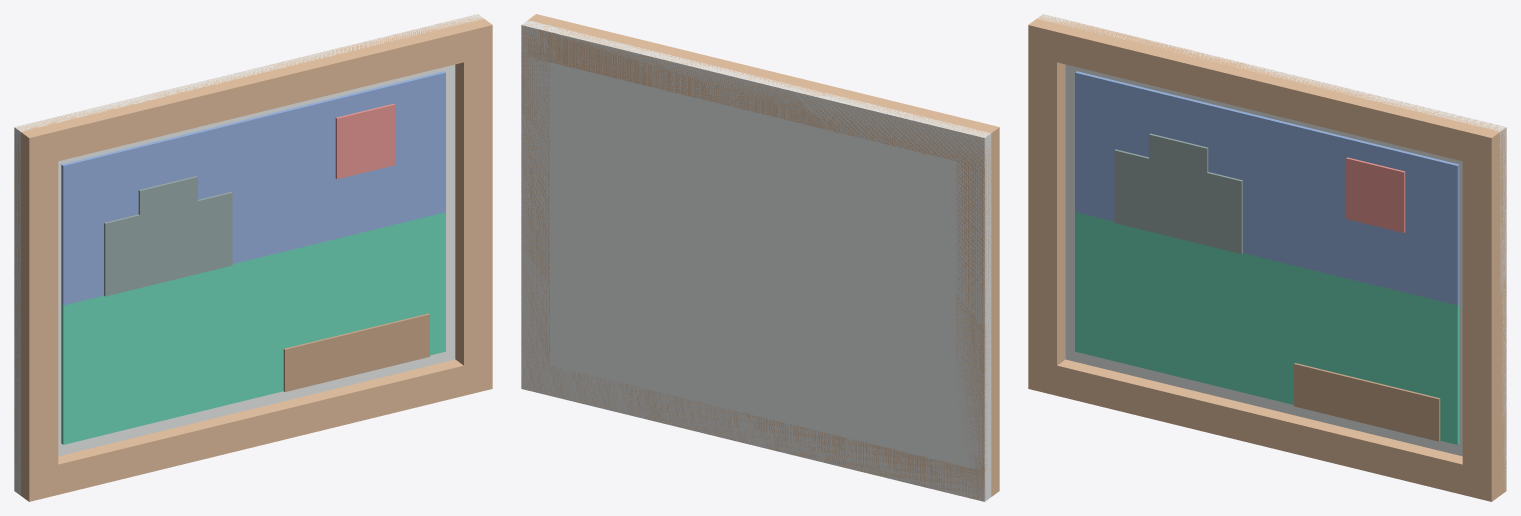
The model's file is pictureLandscape.glb.
3 views of the same model, side by side, from view 1: azimuth 30°, elevation 25°; view 2: azimuth 150°, elevation 25°; view 3: azimuth 330°, elevation 25° (orthographic).
Visible parts, largest first — view 1: pictureLandscape; view 2: pictureLandscape; view 3: pictureLandscape.
Boxes of the visible parts, left/top/right/bottom form: pictureLandscape: left=14, top=14, right=492, bottom=501; pictureLandscape: left=521, top=14, right=999, bottom=501; pictureLandscape: left=1028, top=14, right=1506, bottom=501.
Bounding box in the file's own units: 0.4 × 0.3 × 0.0225.
